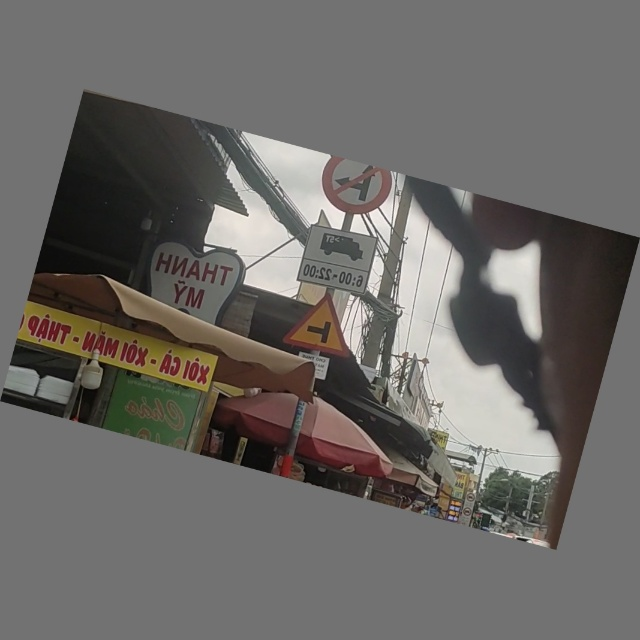P.139: (315, 156, 392, 221)
S.505a*Xe tai: (296, 223, 378, 297)
W.205b: (286, 291, 364, 359)
